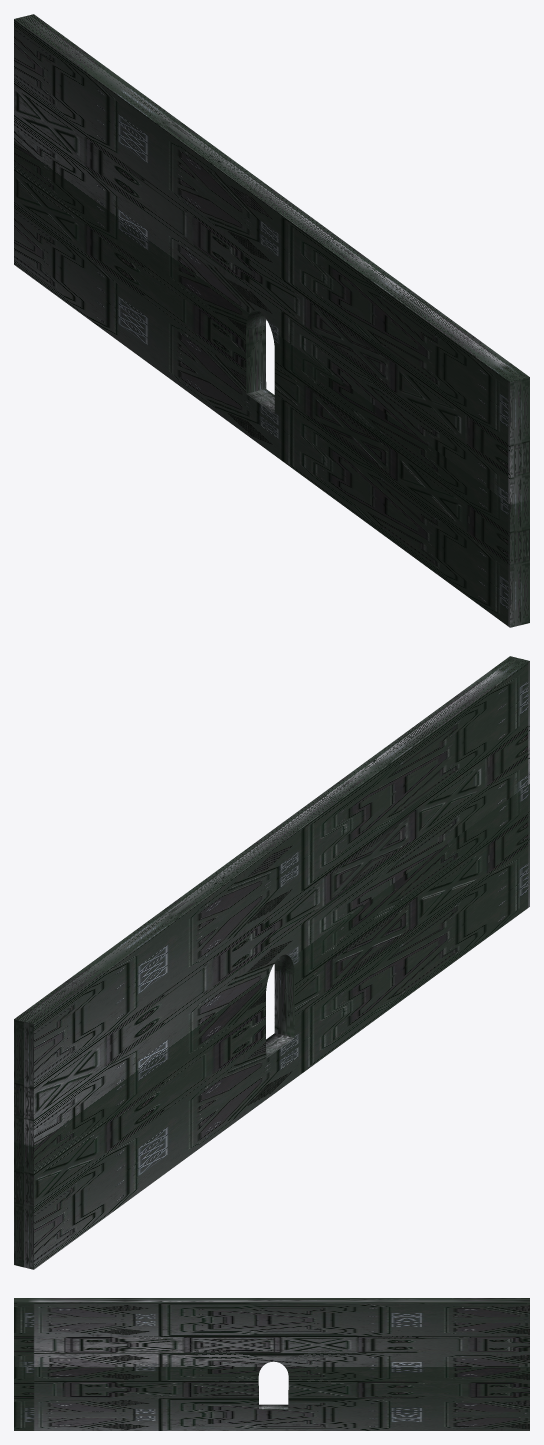
File: WallSide1.obj
The picture shows the model from 3 angles, top to bottom: view 1: azimuth 30°, elevation 25°; view 2: azimuth 150°, elevation 25°; view 3: azimuth 270°, elevation 25°; orthographic projection. The views are drawn at different scales.
Visible parts, largest first — view 1: WallSide1_Cube.005; view 2: WallSide1_Cube.005; view 3: WallSide1_Cube.005.
Part boxes in pixels (bbox=[...]): WallSide1_Cube.005: bbox=[14, 14, 529, 627]; WallSide1_Cube.005: bbox=[14, 656, 529, 1269]; WallSide1_Cube.005: bbox=[14, 1298, 529, 1430].
Bounding box in the file's own units: 1.6 × 18.87 × 69.06.
